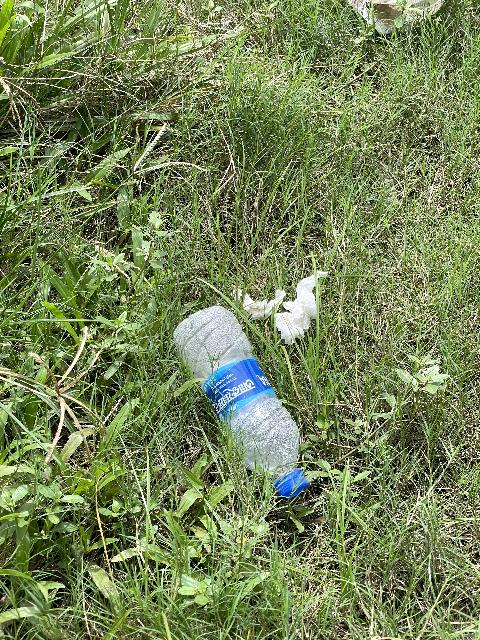bottle: (156, 287, 335, 512)
